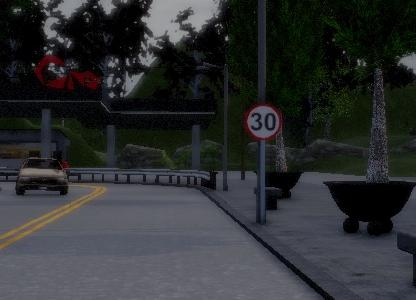Speed_30: (244, 102, 282, 140)
